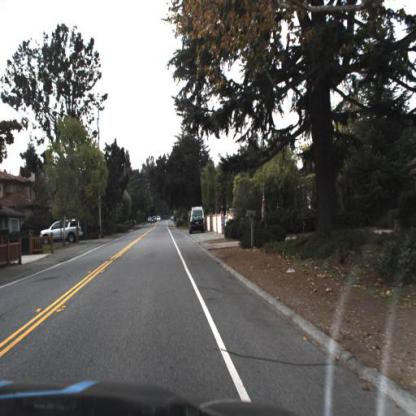car: (41, 216, 85, 247), (189, 216, 206, 234), (189, 205, 205, 219)
